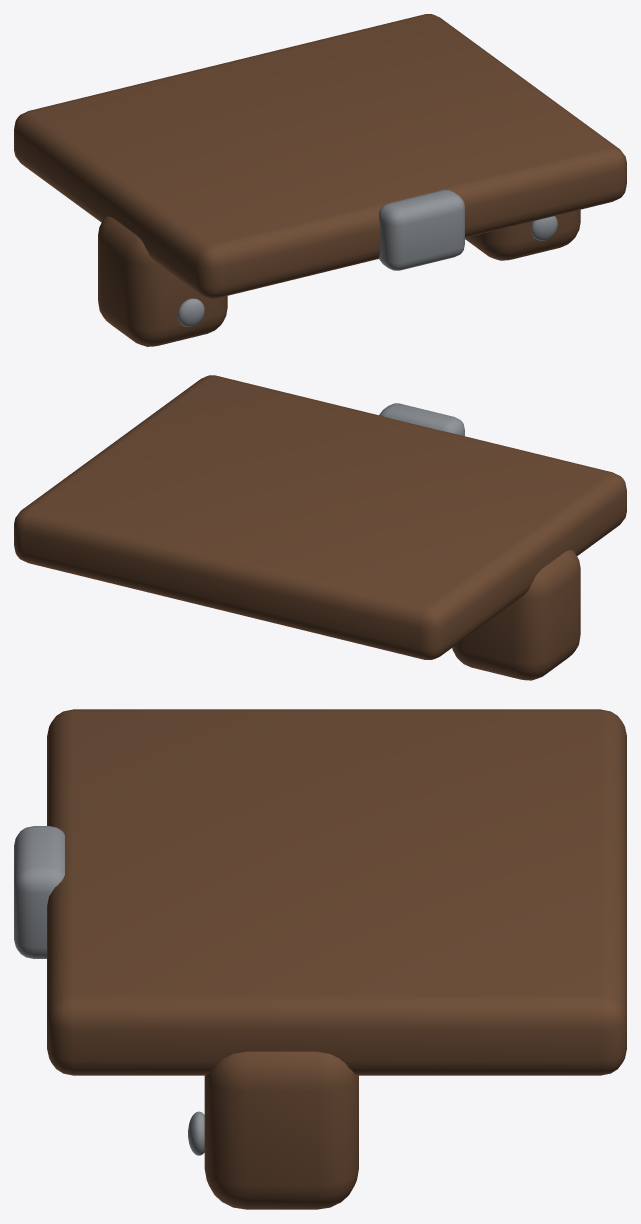
File: part_tool_belt.glb
3 renders of one model, top to bottom at view 1: azimuth 30°, elevation 25°; view 2: azimuth 150°, elevation 25°; view 3: azimuth 270°, elevation 25°, orthographic. The views are drawn at different scales.
Visible parts, largest first — view 1: Belt_Band, Belt_Pouch_L, Belt_Buckle, Belt_Pouch_R, Belt_PouchStud_L, Belt_PouchStud_R; view 2: Belt_Band, Belt_Pouch_L, Belt_Buckle; view 3: Belt_Band, Belt_Pouch_R, Belt_Buckle.
Boxes of the visible parts, x1,y1,x2,y2 form: Belt_Band: (14, 14, 626, 298); Belt_Pouch_L: (98, 216, 227, 346); Belt_Buckle: (379, 190, 464, 270); Belt_Pouch_R: (465, 209, 580, 260); Belt_PouchStud_L: (177, 298, 204, 326); Belt_PouchStud_R: (530, 216, 557, 240); Belt_Band: (14, 375, 626, 659); Belt_Pouch_L: (452, 550, 580, 680); Belt_Buckle: (379, 403, 464, 436); Belt_Band: (47, 709, 626, 1075); Belt_Pouch_R: (204, 1051, 358, 1209); Belt_Buckle: (14, 826, 64, 958).
Bounding box in the file's own units: 0.69 × 0.215 × 0.555.
